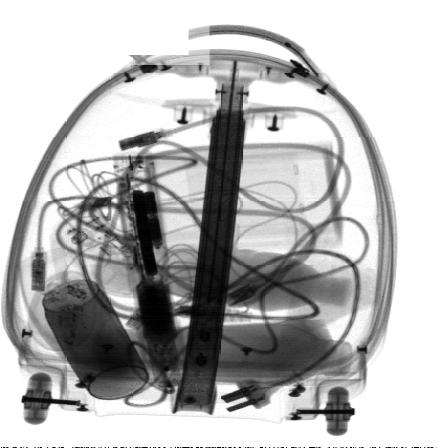Baton: (112, 150, 192, 387)
